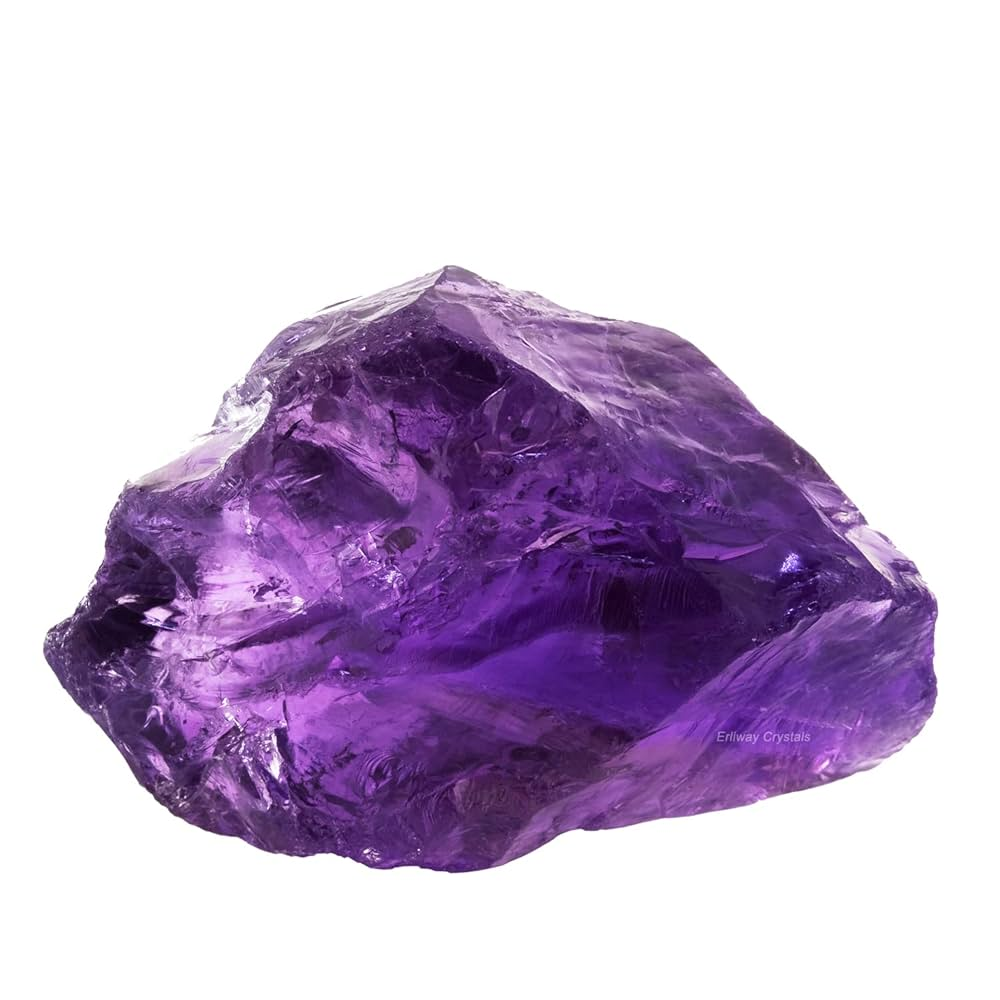Amethyst: (40, 261, 940, 877)
